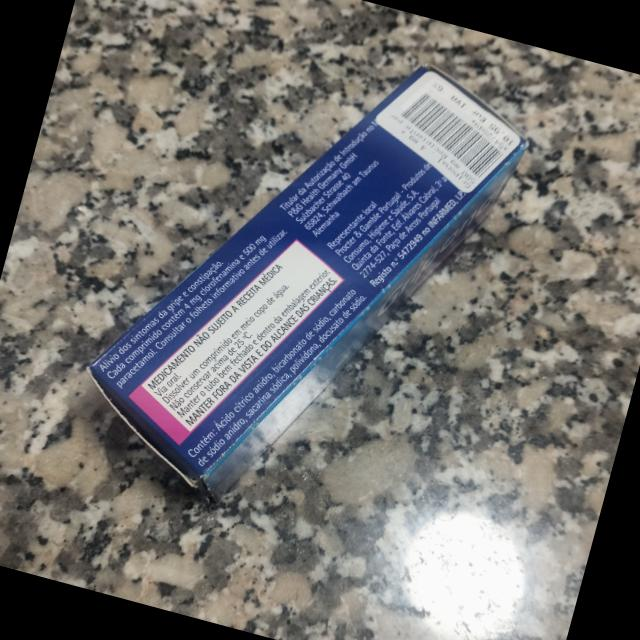box: (90, 62, 529, 504)
